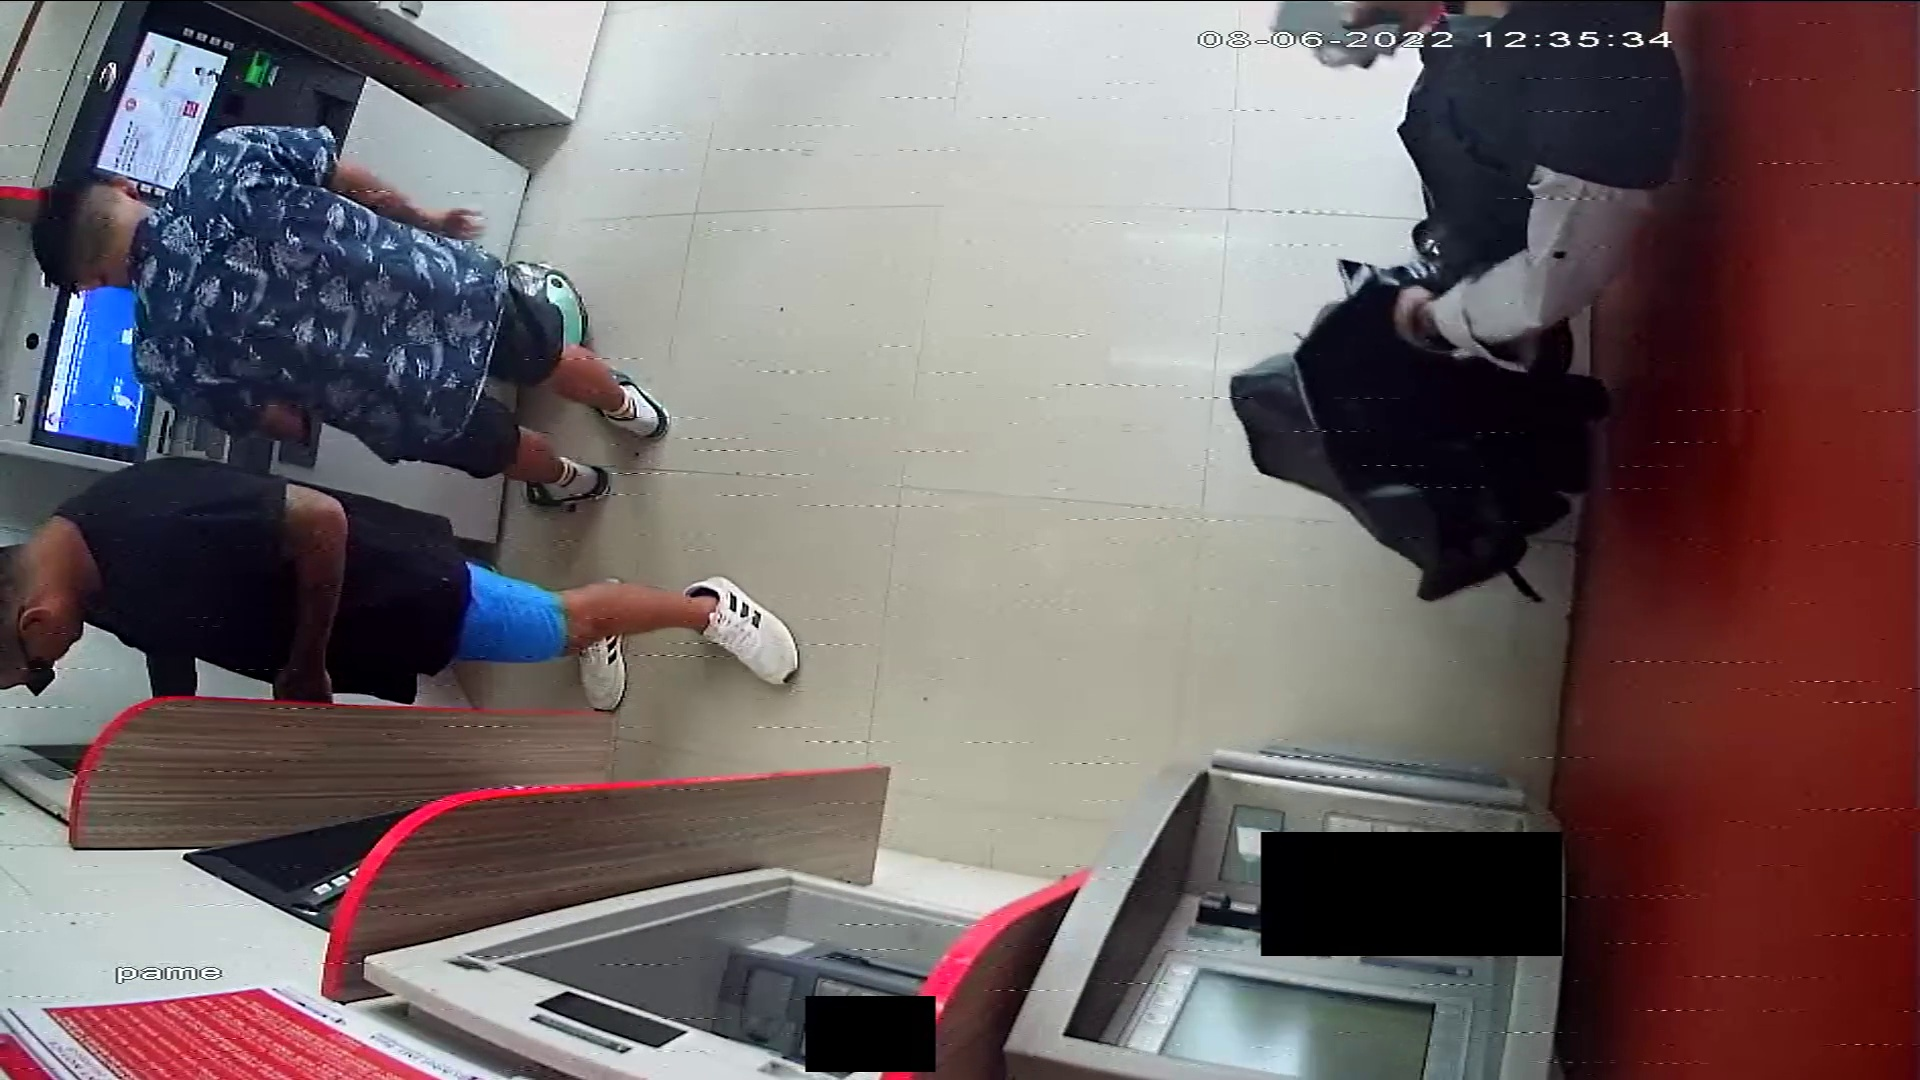person: (29, 118, 671, 508), (1, 454, 799, 712), (1273, 1, 1683, 362)
